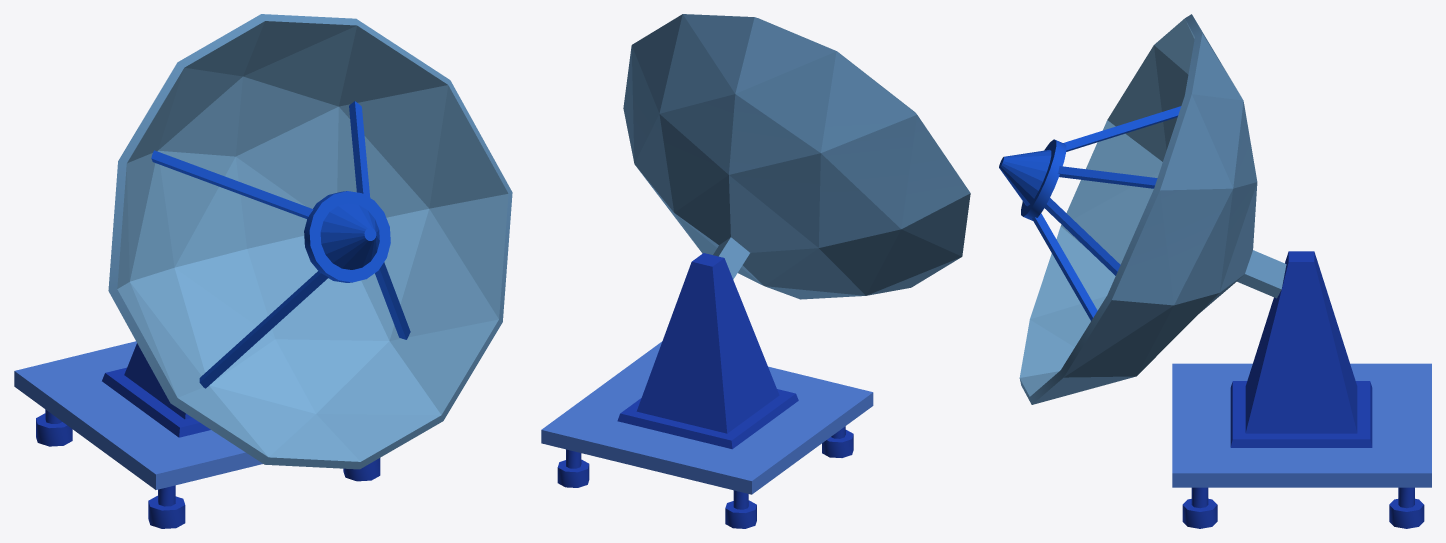
Rendered from M_Radar.fbx.
3 views of the same model, side by side, from view 1: azimuth 30°, elevation 25°; view 2: azimuth 150°, elevation 25°; view 3: azimuth 270°, elevation 25° (orthographic). The views are drawn at different scales.
Parts seen in each view (by area): view 1: M_Radar; view 2: M_Radar; view 3: M_Radar.
Part boxes in pixels (x1,y1,x2,y2): M_Radar: (14, 14, 512, 528); M_Radar: (541, 14, 970, 528); M_Radar: (999, 14, 1431, 528).
Size of the model in its own units: 15.27 by 17.44 by 15.43.
